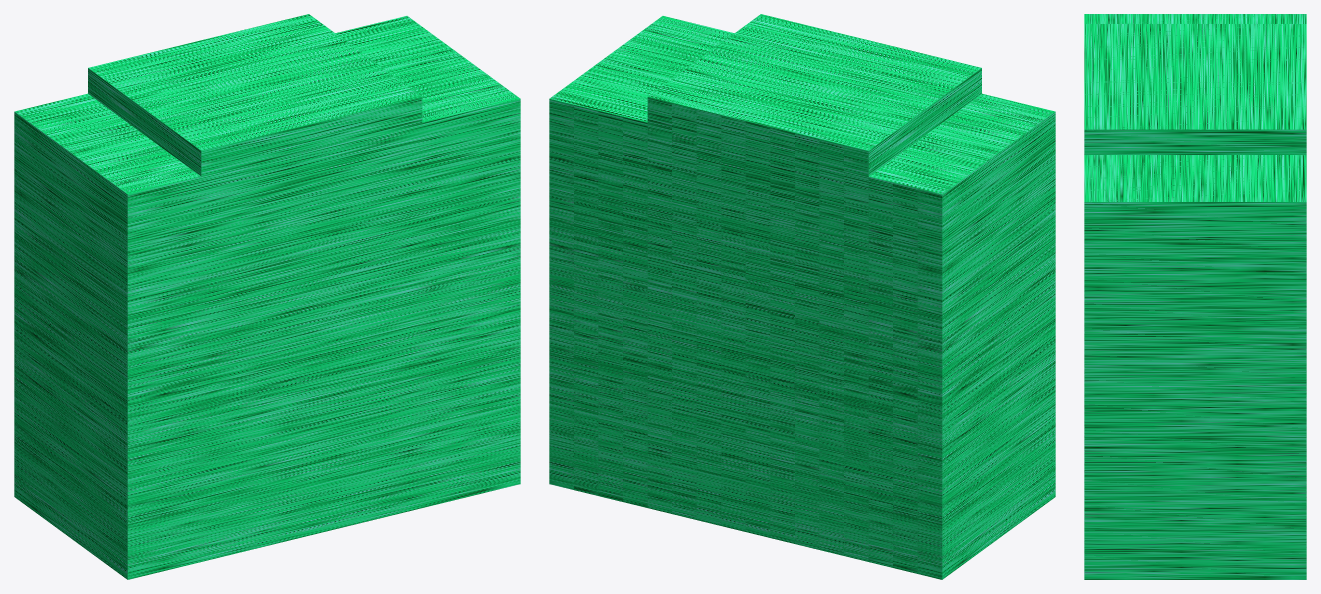
Rendered from tier1_piece_01.obj.
3 views of the same model, side by side, from view 1: azimuth 30°, elevation 25°; view 2: azimuth 150°, elevation 25°; view 3: azimuth 270°, elevation 25° (orthographic).
Parts seen in each view (by area): view 1: tier1_piece_01; view 2: tier1_piece_01; view 3: tier1_piece_01.
Part boxes in pixels (x1,y1,x2,y2): tier1_piece_01: (14,14,520,579); tier1_piece_01: (549,14,1055,579); tier1_piece_01: (1084,14,1306,579).
Size of the model in its own units: 1 by 1 by 0.5.
